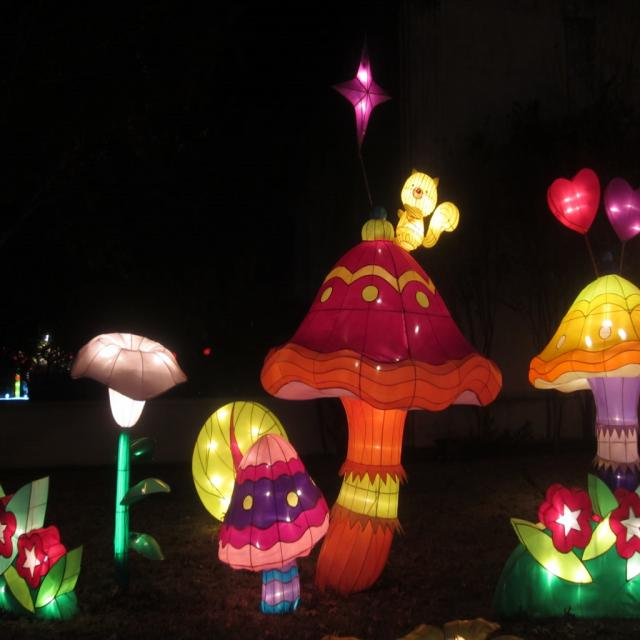Mushroom: (261, 240, 503, 597), (528, 273, 640, 488), (217, 432, 331, 617)
